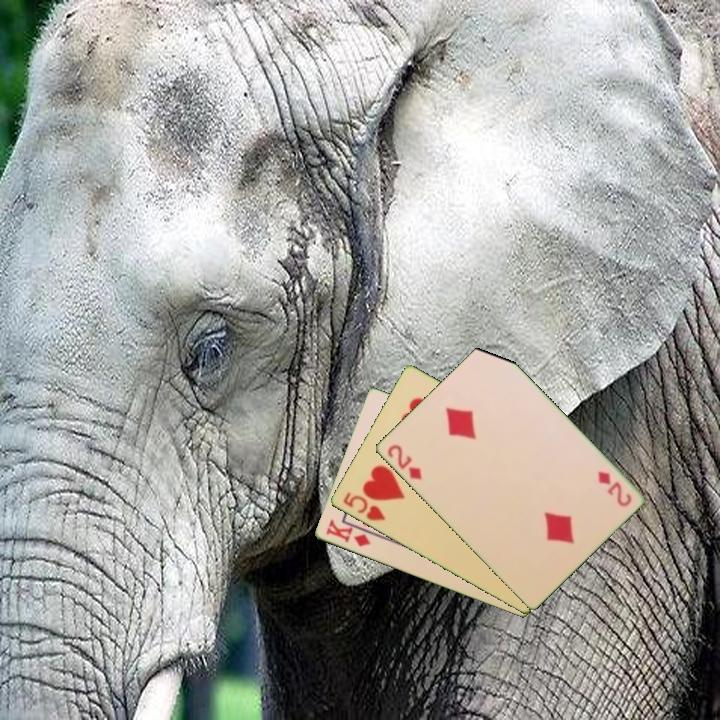2d: (383, 441, 424, 483), (594, 467, 634, 509)
5h: (339, 488, 388, 524)
Kd: (322, 516, 373, 550)
